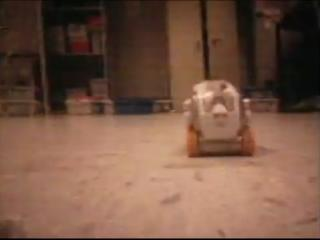cozmo: (182, 78, 256, 157)
